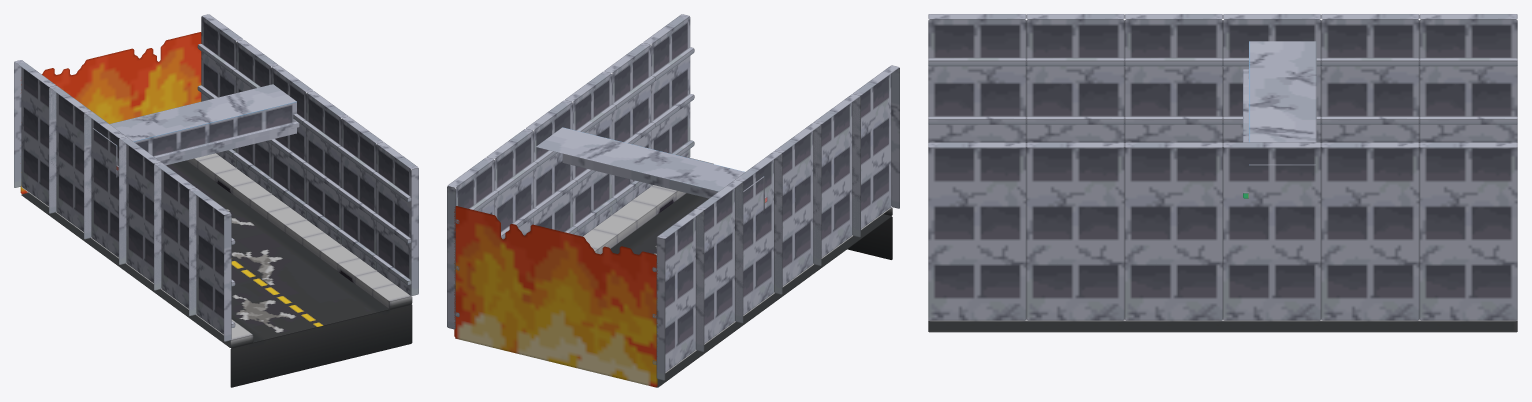
The model's file is skywalk.fbx.
The picture shows the model from 3 angles, left to right: view 1: azimuth 30°, elevation 25°; view 2: azimuth 150°, elevation 25°; view 3: azimuth 270°, elevation 25°; orthographic projection. The views are drawn at different scales.
Visible parts, largest first — view 1: floor, cube, skywalkmain, sidewalk_1, building_8, building_7, building_11, building_2, building_9, building_10, building_12, building_4 (+12 smaller); view 2: cube, building_7, building_8, skywalkmain, building_10, building_9, building_11, building_12, floor, building_2, building_3, building_4 (+9 smaller); view 3: building, building_2, building_3, building_5, building_4, building_6, building_9, building_11, building_7, building_8, building_10, floor (+9 smaller).
Boxes of the visible parts, box(x1,y1,x2,y2) form: floor: box(21, 160, 412, 387); cube: box(20, 32, 201, 194); skywalkmain: box(93, 84, 296, 177); sidewalk_1: box(186, 153, 412, 309); building_8: box(189, 188, 231, 341); building_7: box(14, 60, 56, 213); building_11: box(49, 85, 91, 239); building_2: box(376, 142, 418, 295); building_9: box(154, 162, 196, 315); building_10: box(119, 136, 161, 289); building_12: box(84, 111, 126, 264); building_4: box(306, 91, 348, 244); cube: box(454, 206, 657, 387); building_7: box(656, 208, 704, 380); building_8: box(852, 65, 899, 237); skywalkmain: box(536, 127, 764, 211); building_10: box(774, 122, 821, 294); building_9: box(813, 94, 860, 265); building_11: box(696, 180, 743, 351); building_12: box(735, 151, 782, 322); floor: box(455, 193, 892, 387); building_2: box(643, 14, 690, 185); building_3: box(604, 43, 650, 214); building_4: box(565, 71, 611, 236); building: box(1419, 142, 1517, 320); building_2: box(928, 142, 1026, 320); building_3: box(1026, 142, 1124, 320); building_5: box(1321, 142, 1419, 320); building_4: box(1124, 142, 1222, 320); building_6: box(1223, 142, 1321, 320); building_9: box(1026, 14, 1124, 142); building_11: box(1321, 14, 1419, 142); building_7: box(1419, 14, 1517, 142); building_8: box(928, 14, 1026, 142); building_10: box(1124, 14, 1222, 142); floor: box(928, 321, 1517, 332).
Bounding box in the file's own units: 322 × 275 × 600.
4 materials, 4 textured.
